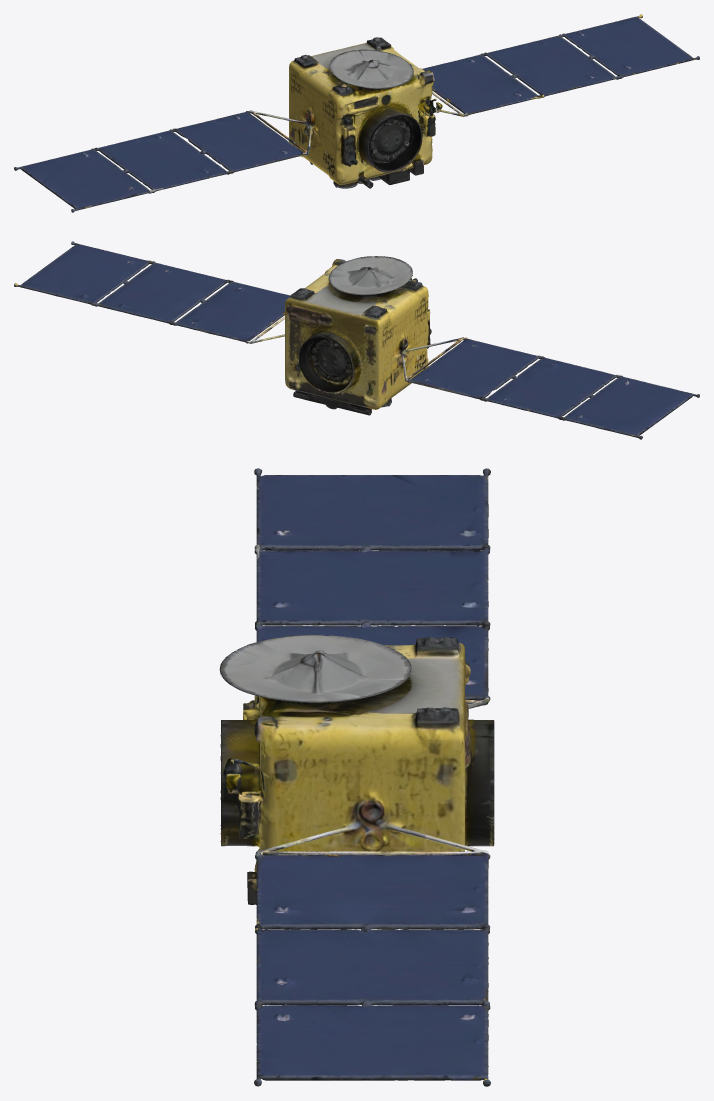
File: hera.glb
The picture shows the model from 3 angles, top to bottom: view 1: azimuth 30°, elevation 25°; view 2: azimuth 150°, elevation 25°; view 3: azimuth 270°, elevation 25°; orthographic projection. The views are drawn at different scales.
Size of the model in its own units: 1.9 by 0.3708 by 0.36.
Materials: 1 (1 with a texture image).
